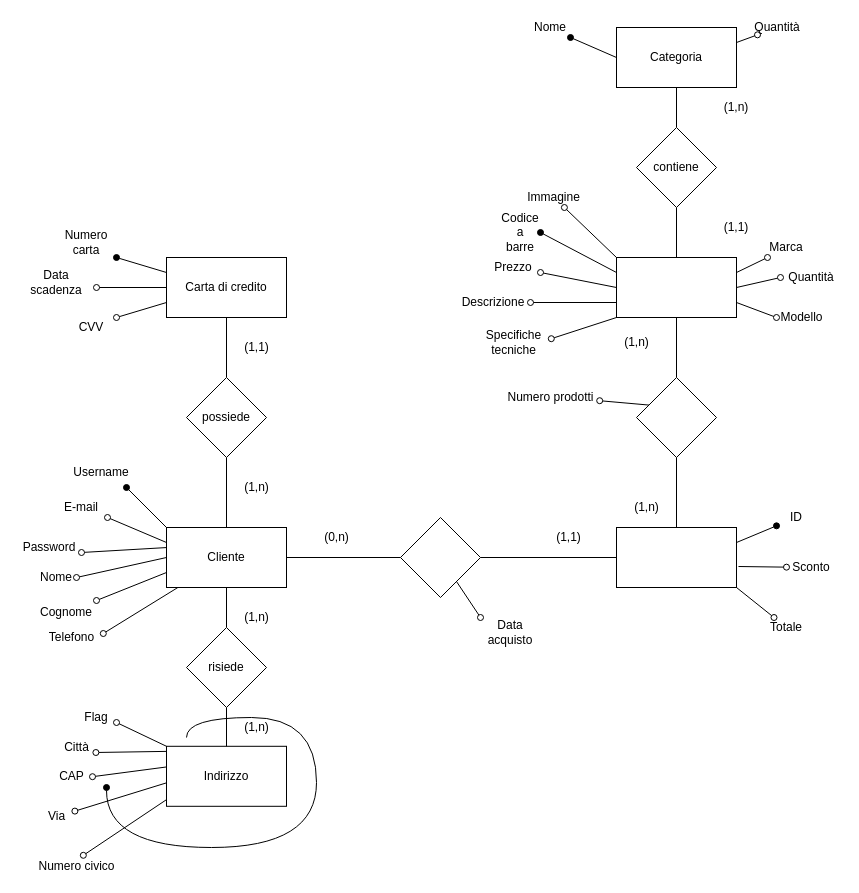
The diagram is 859 pixels wide and 893 high, and some of its shapes have lost their labels. The shapes that lost their labels are listed below. From the top down, each one's box as (x1, y1, x2, y2) in pixels, then its label:
(616, 256, 736, 318): Prodotto
(636, 376, 716, 458): compone
(400, 516, 480, 598): effettuato
(616, 526, 736, 588): Ordine
